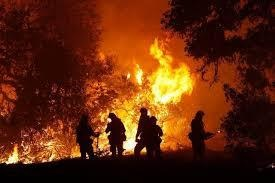fire: (90, 37, 195, 158)
